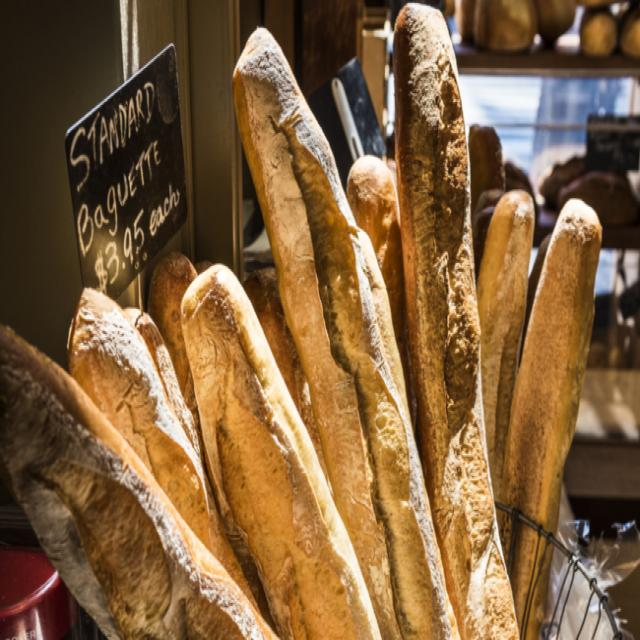Baguette: (234, 28, 457, 639), (0, 325, 276, 639), (395, 4, 516, 637), (182, 265, 378, 637), (69, 288, 218, 553), (499, 200, 601, 534), (477, 189, 534, 500), (347, 155, 409, 395), (498, 510, 553, 639)
